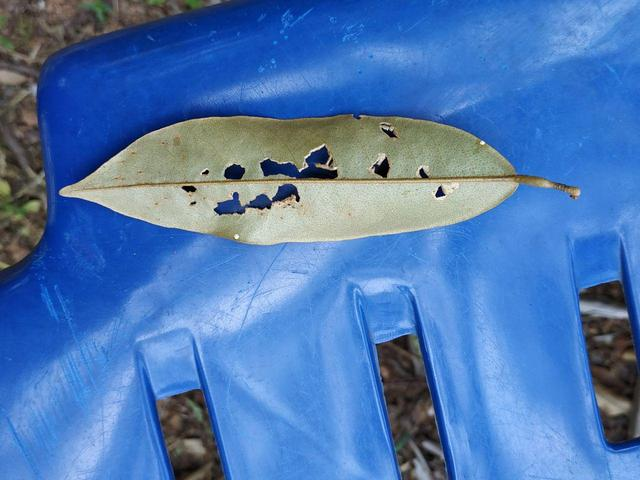blight spot: (177, 144, 338, 227), (361, 151, 391, 183), (426, 182, 454, 206), (376, 123, 403, 140), (405, 161, 430, 177)
